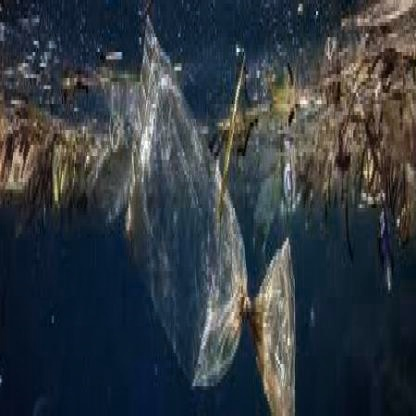pbag: (124, 11, 296, 416)
